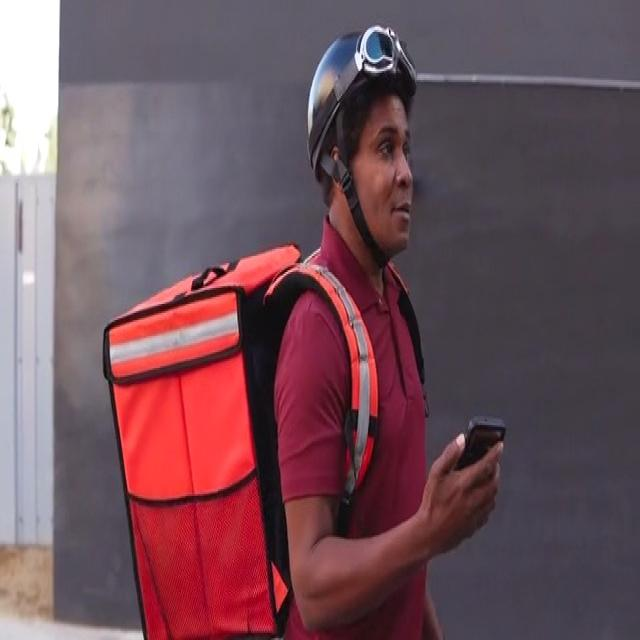Helmet_Wearer: (306, 25, 420, 246)
Person: (274, 5, 504, 638)
